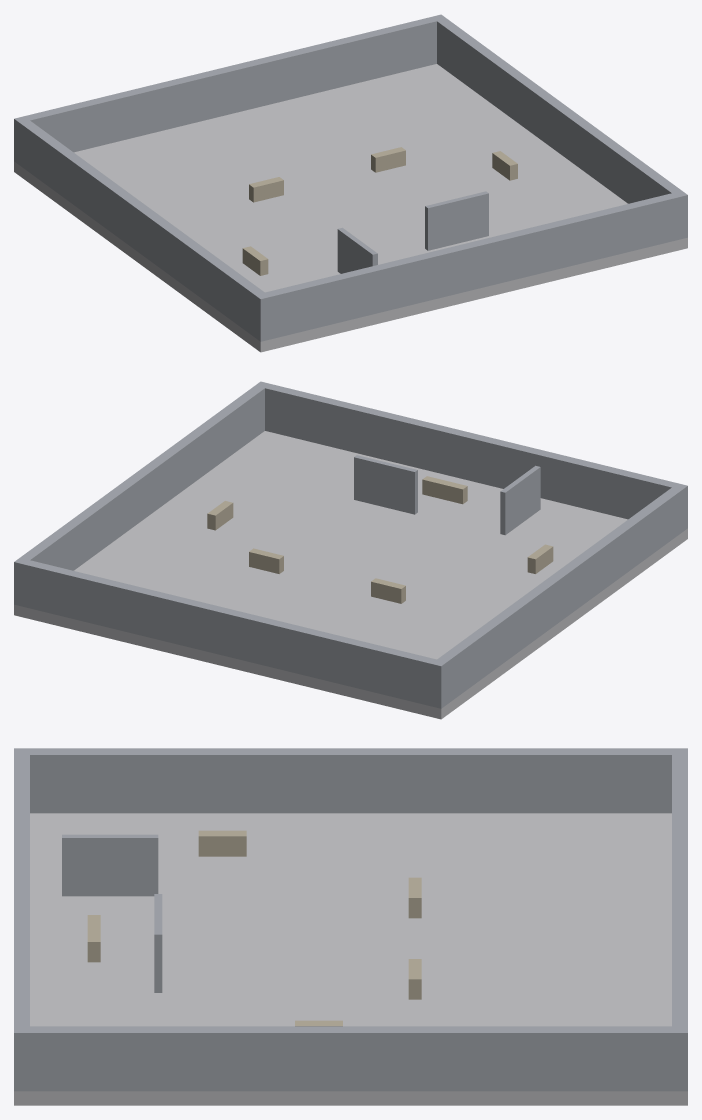
The model's file is arena.glb.
3 renders of one model, top to bottom at view 1: azimuth 30°, elevation 25°; view 2: azimuth 150°, elevation 25°; view 3: azimuth 270°, elevation 25°, orthographic. The views are drawn at different scales.
Parts seen in each view (by area): view 1: floor_node, wall_north_node, wall_south_node, wall_west_node, wall_east_node, screen_01_node, screen_02_node, crate_02_node, crate_01_node, crate_04_node, crate_03_node; view 2: floor_node, wall_south_node, wall_north_node, wall_west_node, wall_east_node, screen_01_node, screen_02_node, crate_05_node, crate_02_node, crate_01_node, crate_04_node, crate_03_node; view 3: floor_node, wall_east_node, wall_west_node, screen_02_node, wall_south_node, wall_north_node, crate_04_node, screen_01_node, crate_05_node, crate_01_node, crate_02_node.
Part boxes in pixels (left/top/right/bottom): floor_node: left=14, top=64, right=687, bottom=352; wall_north_node: left=257, top=193, right=687, bottom=340; wall_south_node: left=14, top=16, right=444, bottom=165; wall_west_node: left=14, top=116, right=270, bottom=341; wall_east_node: left=432, top=14, right=687, bottom=239; screen_01_node: left=425, top=191, right=488, bottom=250; screen_02_node: left=337, top=227, right=377, bottom=273; crate_02_node: left=371, top=147, right=405, bottom=172; crate_01_node: left=249, top=177, right=283, bottom=202; crate_04_node: left=242, top=246, right=268, bottom=275; crate_03_node: left=492, top=151, right=517, bottom=180; floor_node: left=14, top=431, right=687, bottom=719; wall_south_node: left=14, top=560, right=445, bottom=708; wall_north_node: left=257, top=381, right=687, bottom=528; wall_west_node: left=431, top=483, right=687, bottom=708; wall_east_node: left=14, top=381, right=269, bottom=606; screen_01_node: left=354, top=455, right=417, bottom=514; screen_02_node: left=500, top=465, right=540, bottom=535; crate_05_node: left=422, top=476, right=467, bottom=504; crate_02_node: left=249, top=548, right=283, bottom=573; crate_01_node: left=371, top=578, right=405, bottom=603; crate_04_node: left=527, top=544, right=553, bottom=573; crate_03_node: left=207, top=501, right=233, bottom=530; floor_node: left=14, top=813, right=687, bottom=1105; wall_east_node: left=14, top=1026, right=687, bottom=1091; wall_west_node: left=14, top=748, right=687, bottom=813; screen_02_node: left=62, top=834, right=158, bottom=896; wall_south_node: left=672, top=748, right=687, bottom=1091; wall_north_node: left=14, top=749, right=29, bottom=1091; crate_04_node: left=198, top=830, right=246, bottom=856; screen_01_node: left=154, top=894, right=162, bottom=992; crate_05_node: left=87, top=915, right=100, bottom=962; crate_01_node: left=408, top=877, right=421, bottom=918; crate_02_node: left=408, top=959, right=421, bottom=999.
Bounding box in the file's own units: 42 × 5 × 42.
